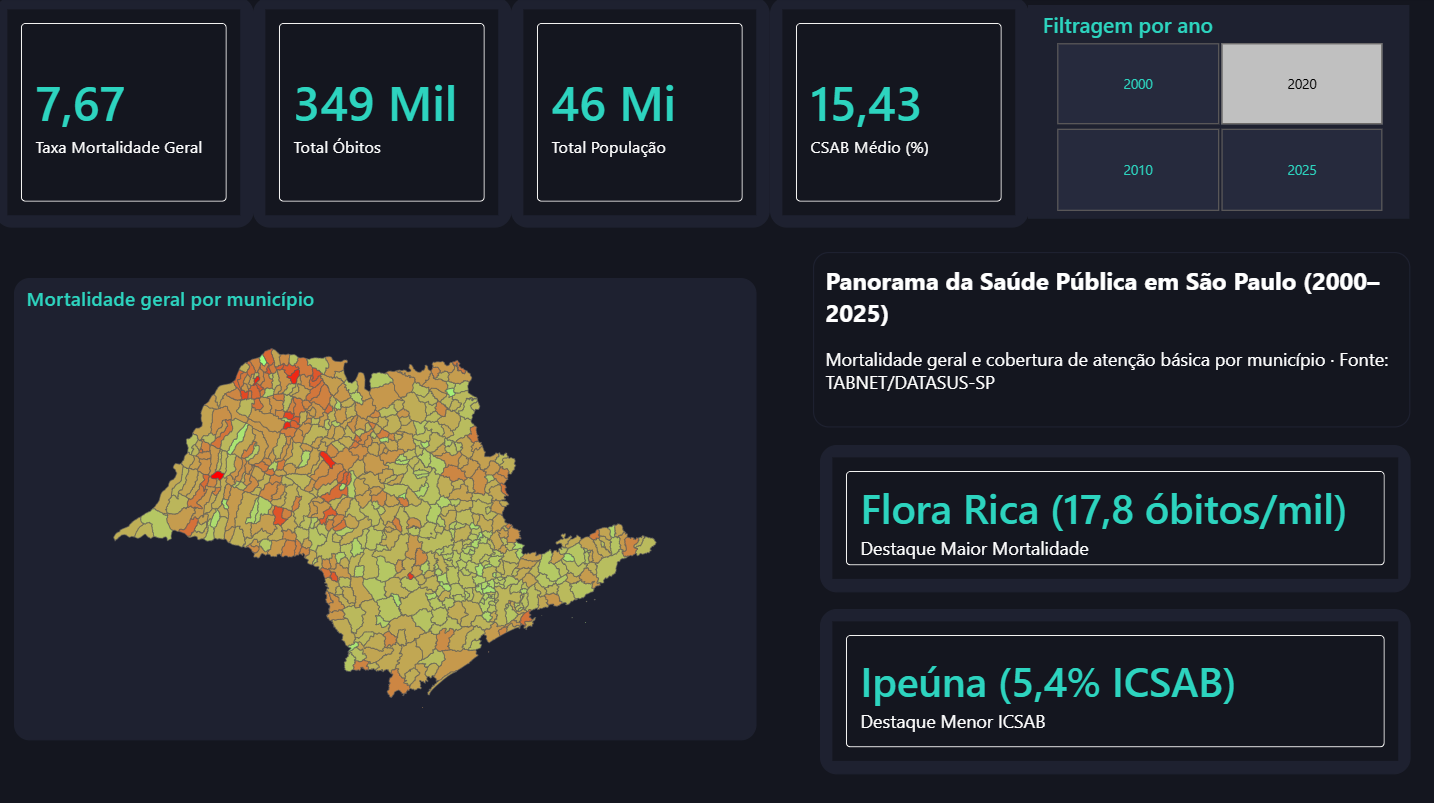

The dashboard page shown, as its layout file describes it:
{"tool":"powerbi","page":{"name":"Visão Geral","canvas":[1280,720],"ordinal":0},"visuals":[{"type":"cardVisual","fields":{"Data":["dataset_final_projeto_saude_sp_BR_1.Taxa Mortalidade Geral"]},"box":[0,0,229.5,205.2],"z":0},{"type":"cardVisual","fields":{"Data":["dataset_final_projeto_saude_sp_BR_1.Total Óbitos"]},"box":[229.5,0,229.5,205.2],"z":1000},{"type":"cardVisual","fields":{"Data":["dataset_final_projeto_saude_sp_BR_1.Total População"]},"box":[459.1,0,229.5,205.2],"z":2000},{"type":"cardVisual","fields":{"Data":["dataset_final_projeto_saude_sp_BR_1.CSAB Médio (%)"]},"box":[688.6,0,229.5,205.2],"z":3000},{"type":"slicer","title":"Filtragem por ano","fields":{"Values":["dataset_final_projeto_saude_sp_BR_1.ano"]},"box":[918.2,7.1,339.5,189.7],"z":4000},{"type":"shapeMap","title":"Mortalidade geral por município","fields":{"Category":["dataset_final_projeto_saude_sp_BR_1.municipio_mapa"],"Value":["Sum(dataset_final_projeto_saude_sp_BR_1.taxa_mortalidade_por_mil)"]},"box":[16.9,249.8,659.6,410.7],"z":5000},{"type":"textbox","box":[727.1,226.7,530.7,156.4],"z":6000},{"type":"cardVisual","fields":{"Data":["dataset_final_projeto_saude_sp_BR_1.Destaque Maior Mortalidade"]},"box":[733.3,398.2,525,130.7],"z":7000},{"type":"cardVisual","fields":{"Data":["dataset_final_projeto_saude_sp_BR_1.Destaque Menor ICSAB"]},"box":[733.3,544,525,146.7],"z":8000}]}

Visuals, with their boxes in screenshot pixels (x1, y1, x2, y2), scaled from the page's 1280x720 canvas onto the 1434x803 screenshot:
cardVisual - dataset_final_projeto_saude_sp_BR_1.Taxa Mortalidade Geral: bbox=[0, 0, 257, 229]
cardVisual - dataset_final_projeto_saude_sp_BR_1.Total Óbitos: bbox=[257, 0, 514, 229]
cardVisual - dataset_final_projeto_saude_sp_BR_1.Total População: bbox=[514, 0, 771, 229]
cardVisual - dataset_final_projeto_saude_sp_BR_1.CSAB Médio (%): bbox=[771, 0, 1029, 229]
"Filtragem por ano" slicer: bbox=[1029, 8, 1409, 219]
"Mortalidade geral por município" shapeMap: bbox=[19, 279, 758, 737]
textbox: bbox=[815, 253, 1409, 427]
cardVisual - dataset_final_projeto_saude_sp_BR_1.Destaque Maior Mortalidade: bbox=[822, 444, 1410, 590]
cardVisual - dataset_final_projeto_saude_sp_BR_1.Destaque Menor ICSAB: bbox=[822, 607, 1410, 770]
